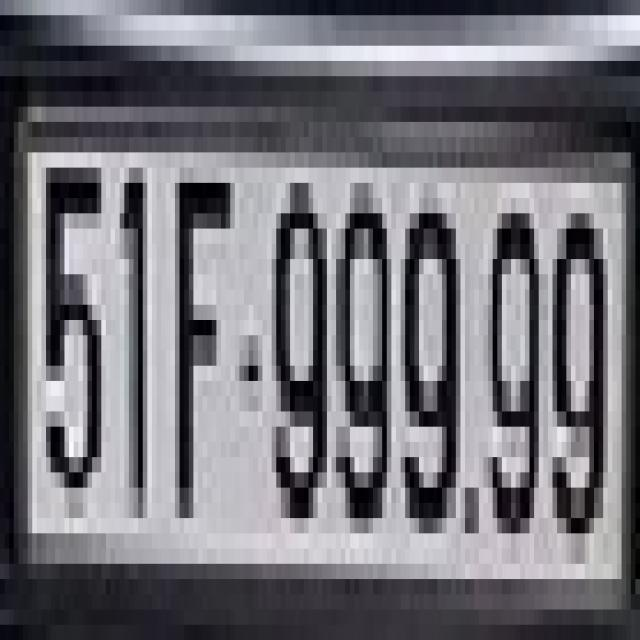1: (120, 167, 152, 518)
5: (41, 152, 106, 503)
9: (548, 198, 608, 549), (400, 198, 460, 533), (488, 198, 544, 533), (272, 183, 328, 518), (336, 183, 387, 518)
F: (170, 167, 235, 518)
